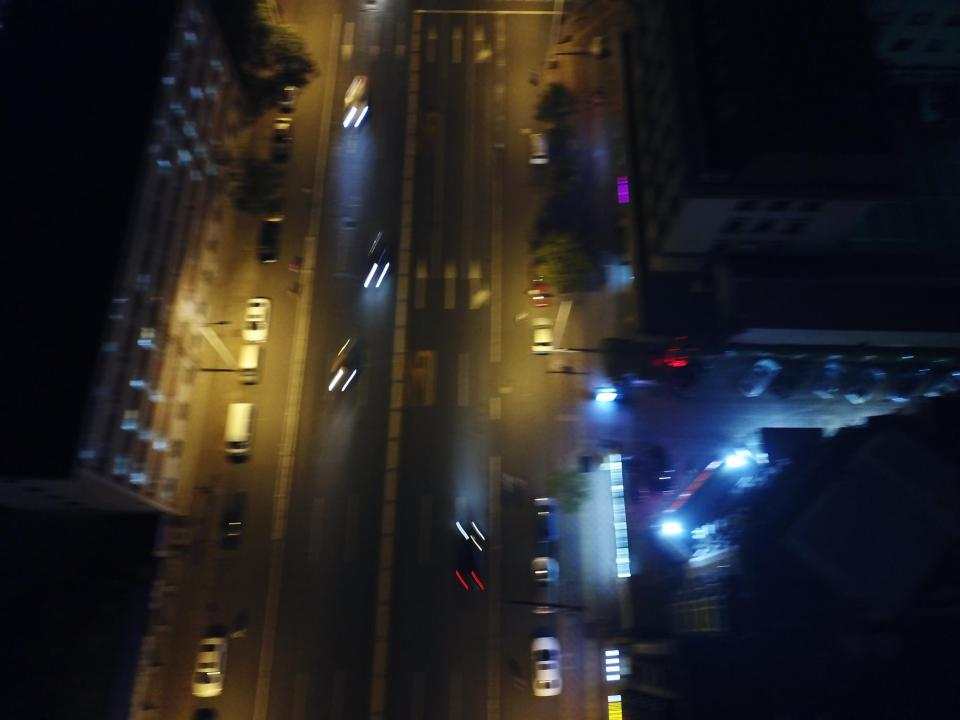car: (452, 518, 487, 594), (530, 636, 564, 698), (192, 637, 225, 698), (734, 358, 783, 398), (527, 556, 559, 615), (328, 338, 360, 393), (362, 228, 390, 288), (343, 75, 372, 128), (256, 214, 286, 264), (220, 492, 246, 548), (532, 496, 560, 548), (242, 298, 272, 343), (528, 270, 554, 310), (530, 315, 554, 356), (270, 118, 292, 160), (277, 82, 300, 112)
van: (223, 402, 255, 462), (237, 344, 264, 385), (529, 132, 548, 166)
